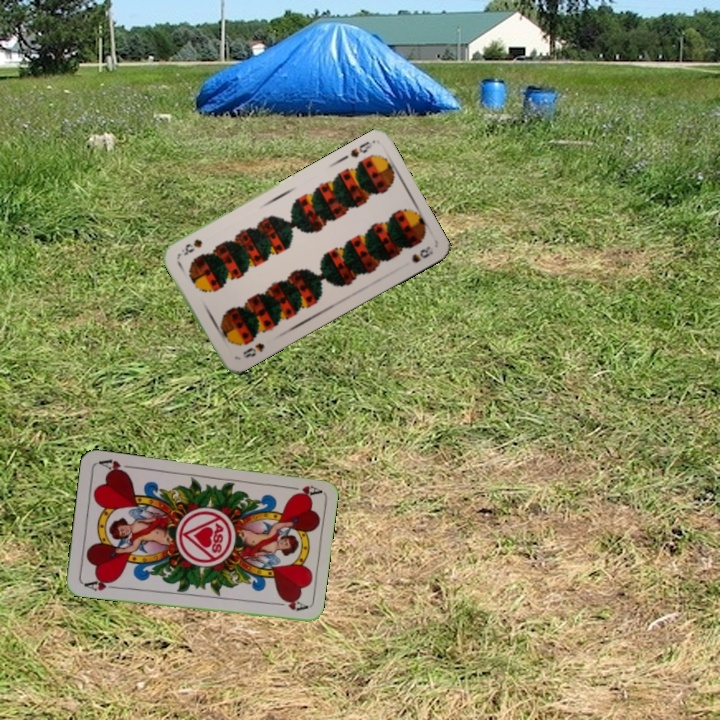HA: (80, 574, 120, 594), (282, 481, 323, 500)
S8: (346, 137, 375, 160), (239, 339, 267, 361)
